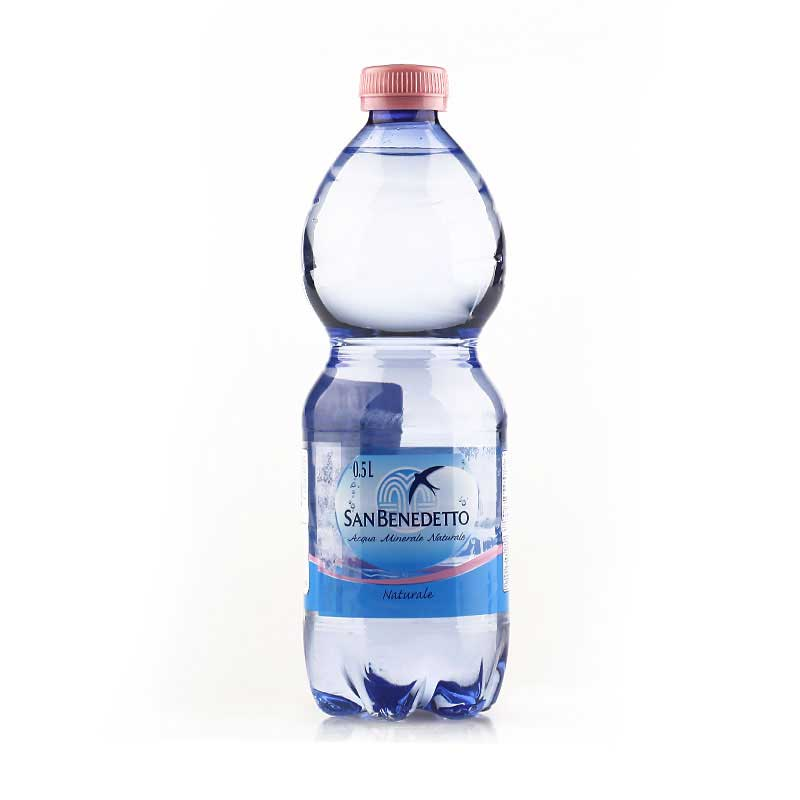PlasticBottle: (289, 55, 529, 733)
